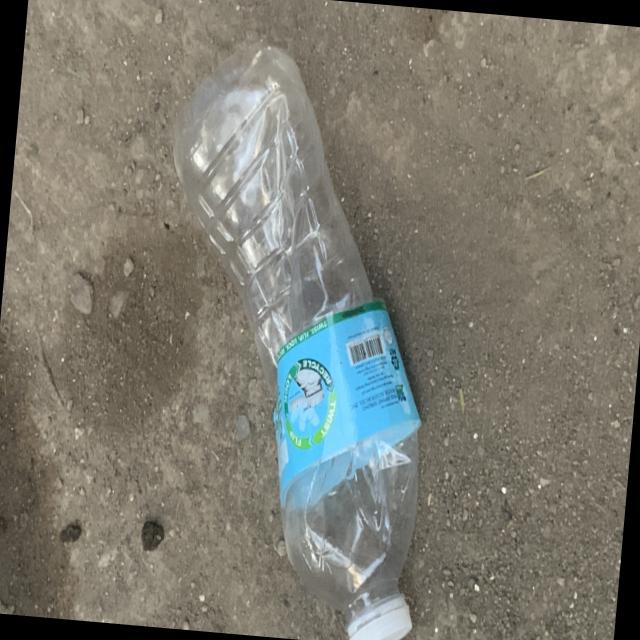Bottle: (172, 44, 420, 640)
